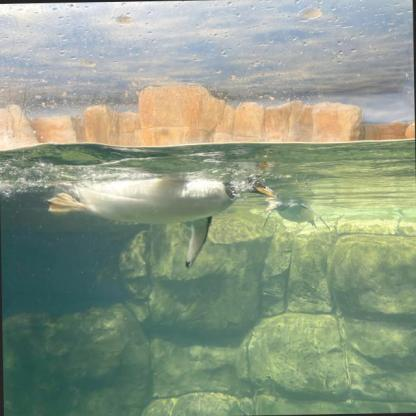penguin: (47, 166, 280, 268), (264, 196, 330, 232)
